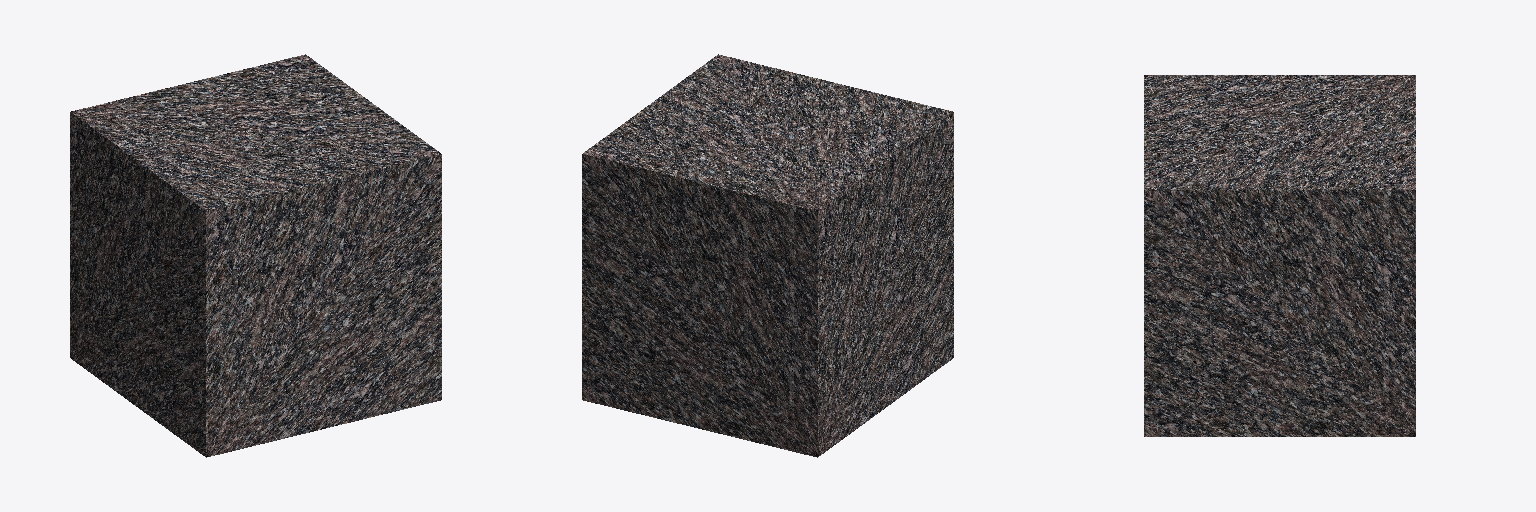
3 renders of one model, left to right at view 1: azimuth 30°, elevation 25°; view 2: azimuth 150°, elevation 25°; view 3: azimuth 270°, elevation 25°, orthographic.
Parts seen in each view (by area): view 1: cube; view 2: cube; view 3: cube.
Boxes of the visible parts, <box> form: cube: <box>70,54,441,457</box>; cube: <box>582,54,953,457</box>; cube: <box>1144,75,1415,436</box>.
Bounding box in the file's own units: 1 × 1 × 1.
1 materials, 1 textured.